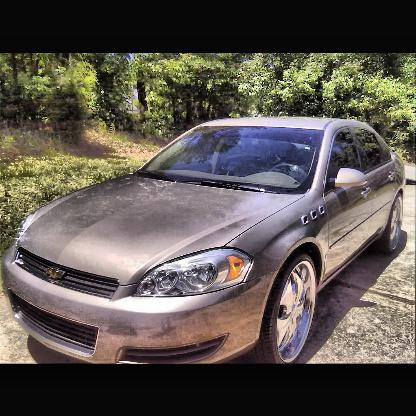Chevrolet Impala Sedan 2007: (3, 115, 406, 364)
